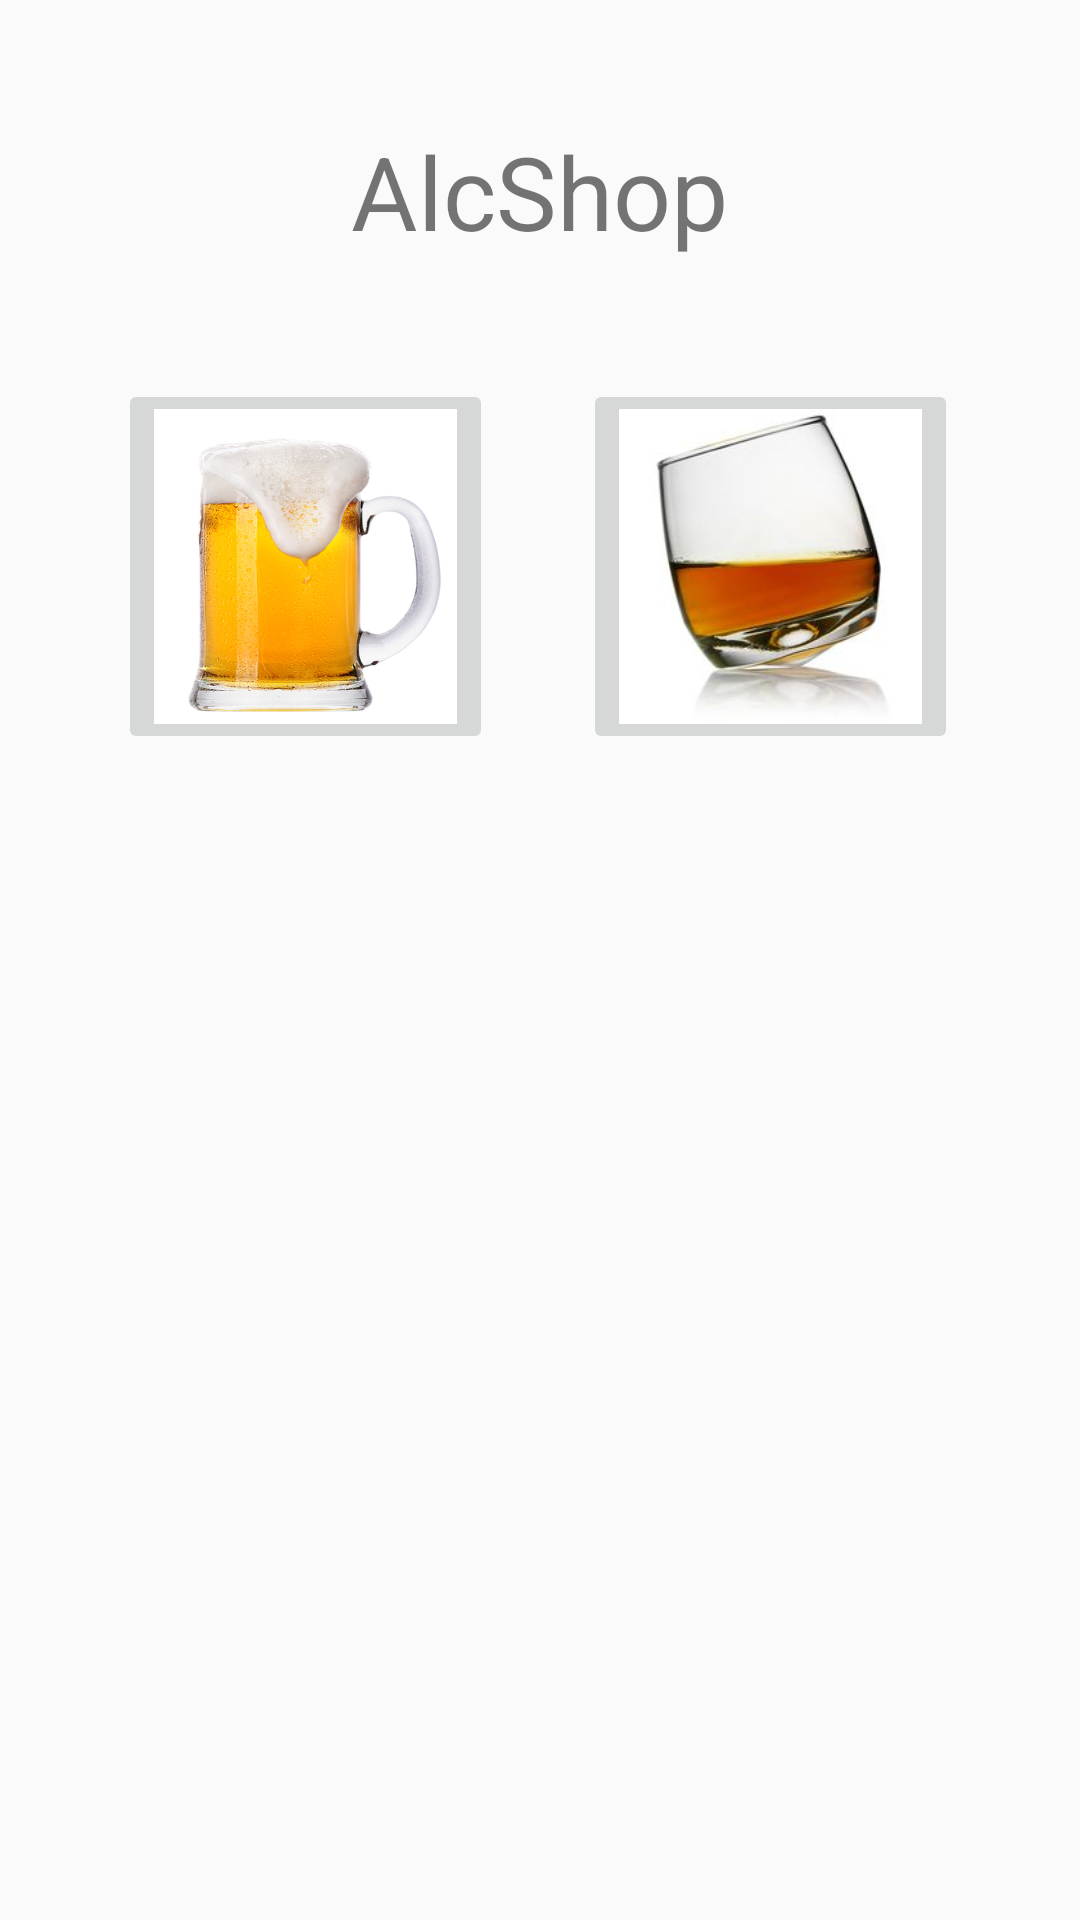

Screen size 1080*1920. Icon name, then its box in pixels as (x1, y1, x2, y2):
beer button: (130, 397, 481, 736)
whiskey button: (595, 397, 946, 736)
